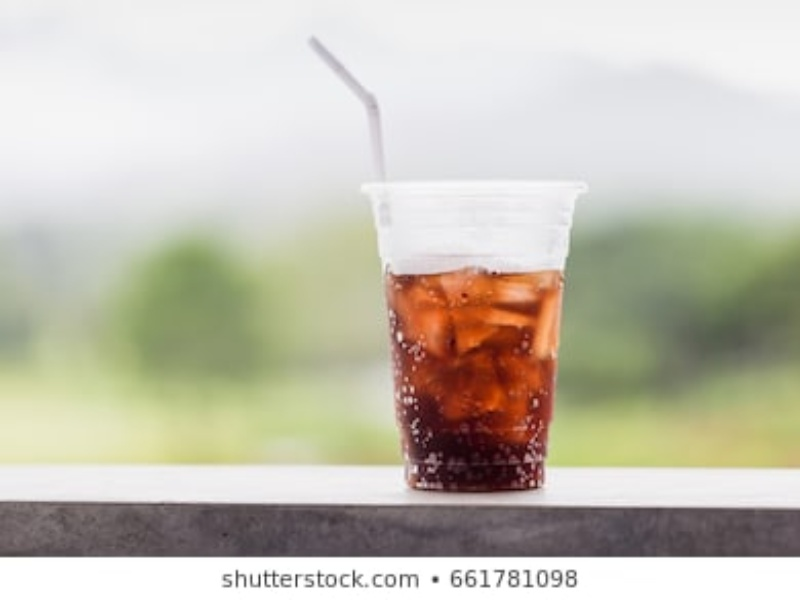plastic-cup: (366, 177, 577, 493)
straw: (299, 29, 397, 222)
